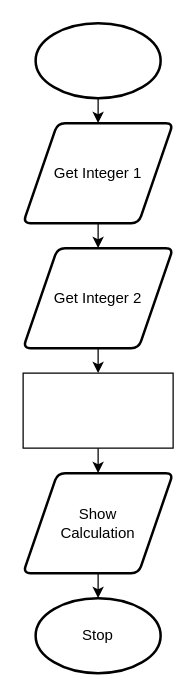
The diagram is 195 pixels wide and 695 high, and some of its shapes have lost their labels. The shapes that lost their labels are listed below. From the top down, each one's centre as x and y in pixels, then its label:
At [97,60]: "Start".
At [97,410]: "Calculation = integer 1 + integer 2".
